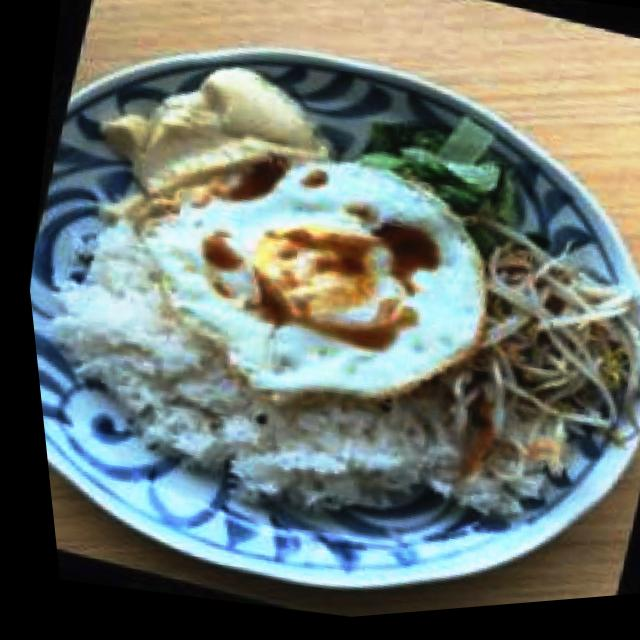fried_eggs: (104, 110, 521, 443)
mung_bean_sprouts: (451, 217, 640, 471)
rice: (23, 183, 493, 556)
